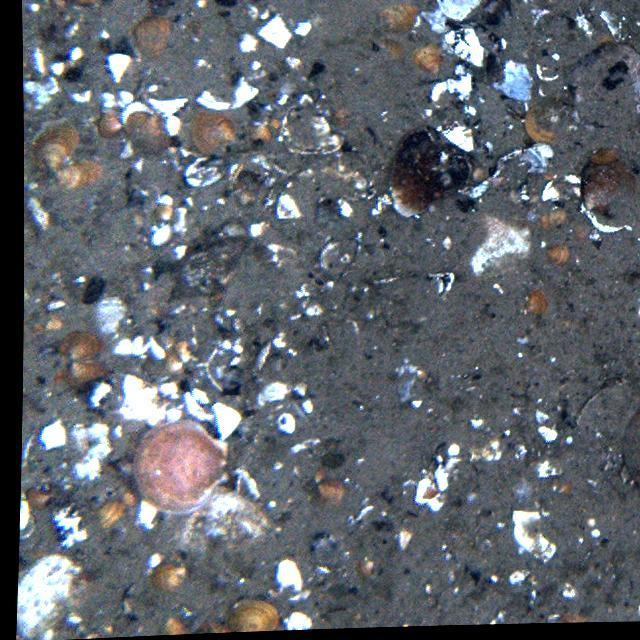scallop: (132, 418, 238, 518)
